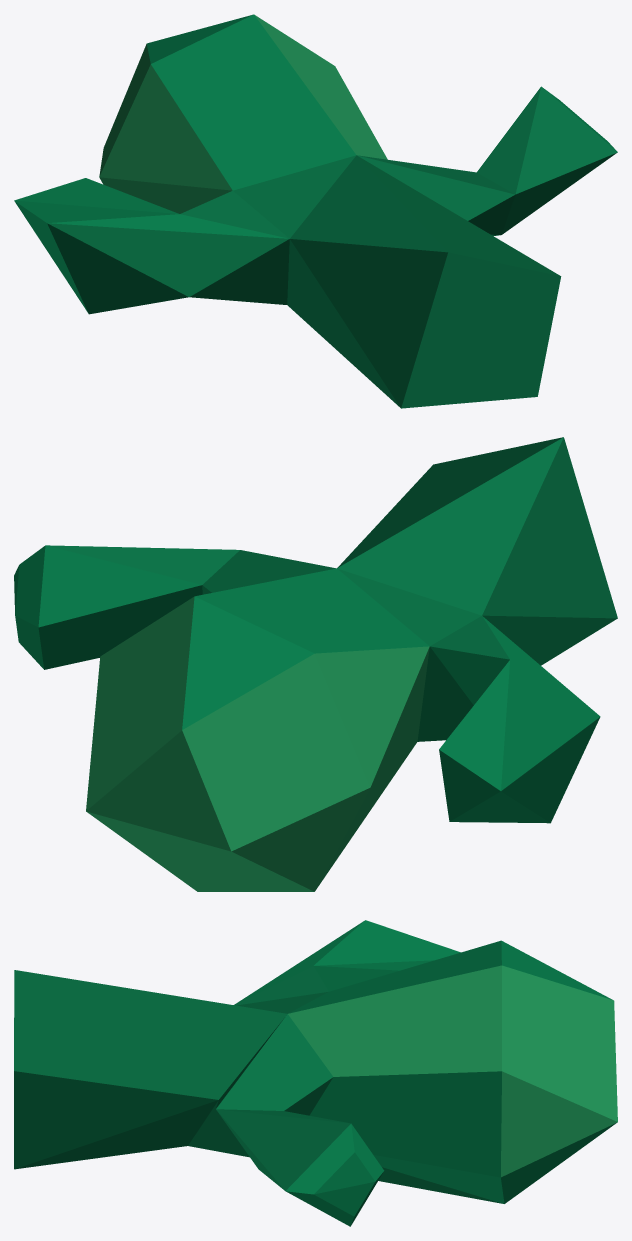
Rendered from cactus_1.fbx.
The picture shows the model from 3 angles, top to bottom: view 1: azimuth 30°, elevation 25°; view 2: azimuth 150°, elevation 25°; view 3: azimuth 270°, elevation 25°; orthographic projection. The views are drawn at different scales.
Parts seen in each view (by area): view 1: cactus_1; view 2: cactus_1; view 3: cactus_1.
Boxes of the visible parts, <box> form: cactus_1: <box>14,14,617,408</box>; cactus_1: <box>14,437,617,891</box>; cactus_1: <box>14,920,617,1226</box>.
Size of the model in its own units: 47.59 by 21.57 by 49.08.
